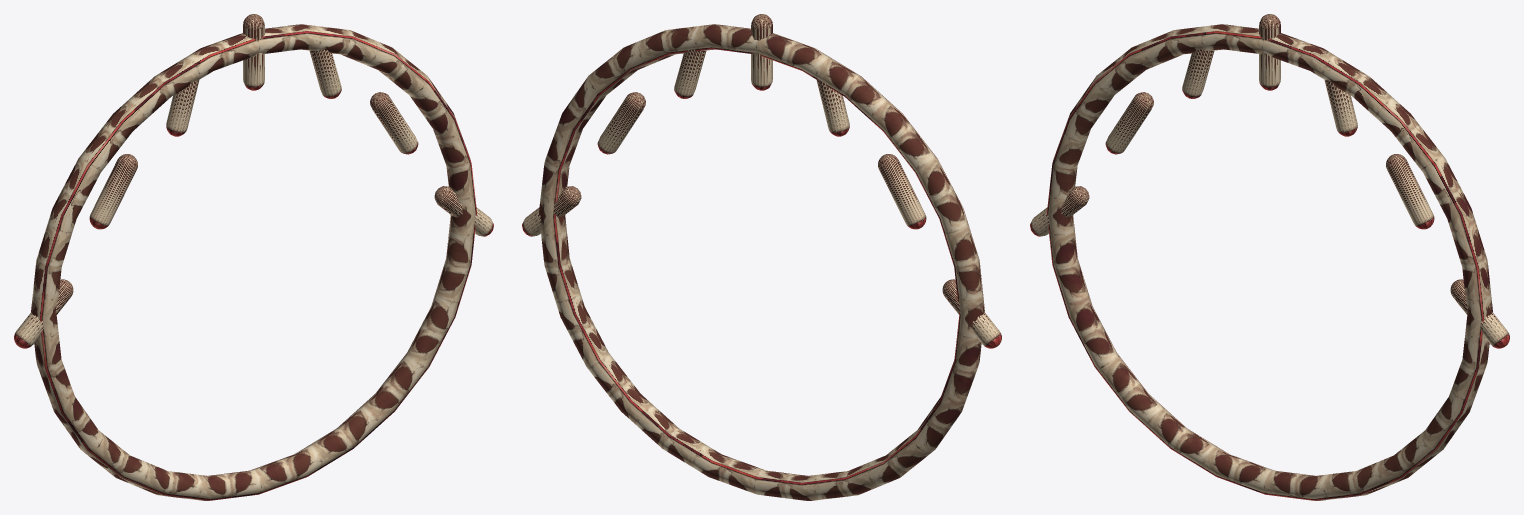
Rendered from ivoryRibArch.glb.
The picture shows the model from 3 angles, left to right: view 1: azimuth 30°, elevation 25°; view 2: azimuth 150°, elevation 25°; view 3: azimuth 330°, elevation 25°; orthographic projection.
Visible parts, largest first — view 1: Spine, Rib0 (×7); view 2: Spine, Rib0 (×7); view 3: Spine, Rib0 (×7).
Boxes of the visible parts, x1=… form: Spine: x1=31, y1=24, x2=476, y2=500; Rib0 (×7): x1=14, y1=14, x2=493, y2=348; Spine: x1=539, y1=24, x2=984, y2=500; Rib0 (×7): x1=522, y1=14, x2=1001, y2=348; Spine: x1=1047, y1=24, x2=1492, y2=500; Rib0 (×7): x1=1030, y1=14, x2=1509, y2=348.
Size of what is drawn, in the model's own units: 90.77 by 87.25 by 4.4.
Materials: 1 (1 with a texture image).
